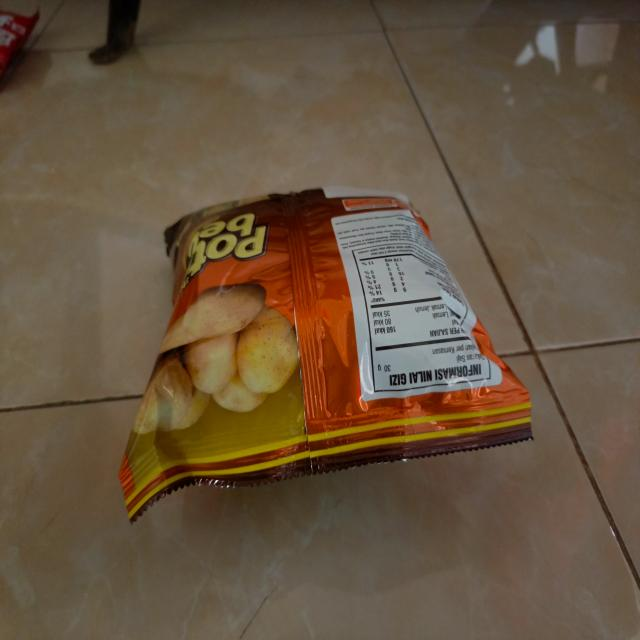potabee-ayam-bakar: (120, 186, 536, 534)
